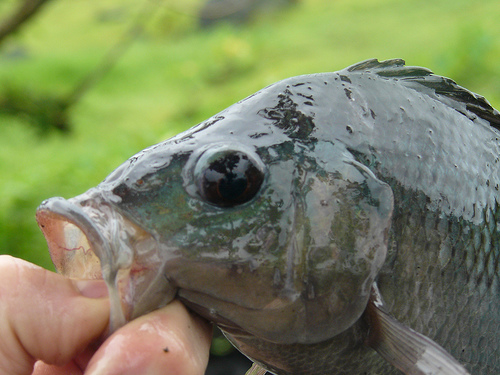fish: (34, 56, 499, 374)
